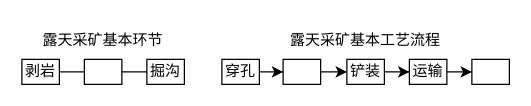
Image size: 531x106. Some labels were removed from this diagram. The shapes that lost their labels are listed below. From the top down, each one's box as (x1, y1, x2, y2) in pixels, then its label:
(83, 58, 122, 84): 采矿
(282, 58, 321, 84): 爆破
(471, 58, 509, 84): 排土
